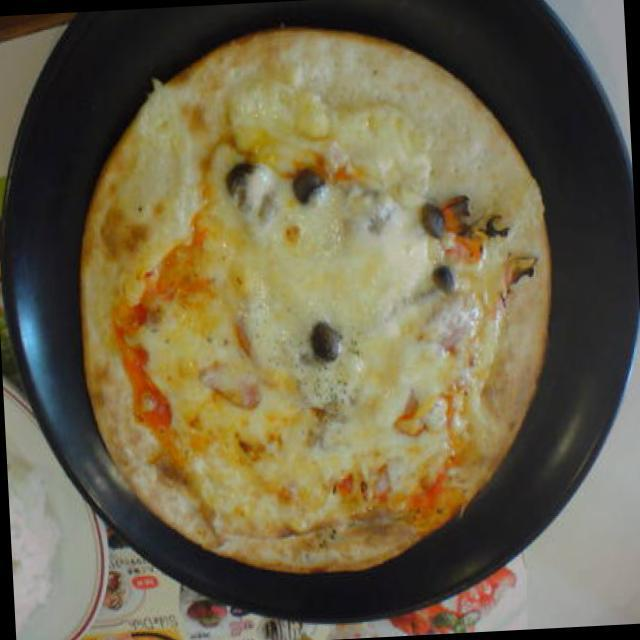Pizza: (51, 10, 571, 592)
